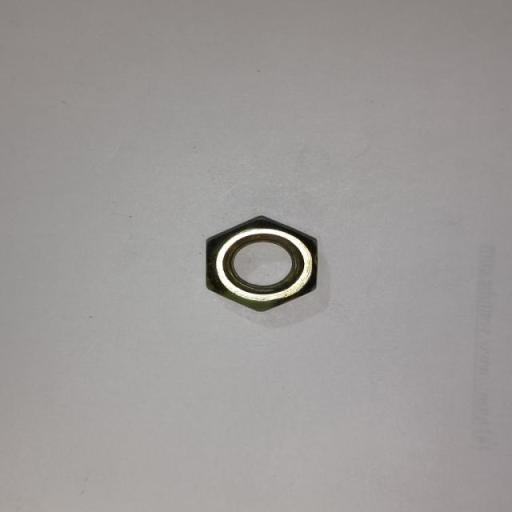Nut: (205, 215, 318, 312)
